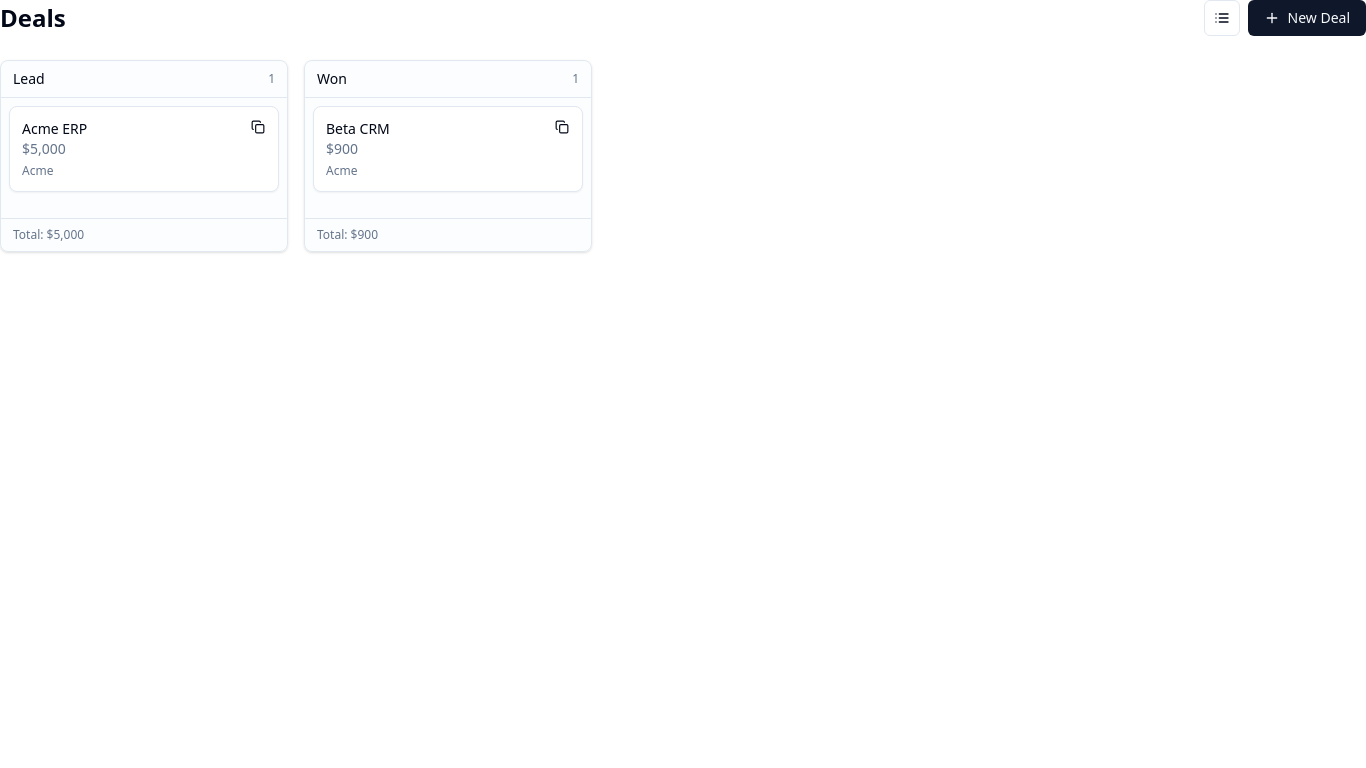
Test: Duplicating a deal from the deals page › opens the copy form for that deal without opening the deal itself
Expected: the text "Acme ERP" is shown, x1=22 y1=119 x2=87 y2=139
Click the button named "Duplicate deal: Acme ERP" at (258, 127), box x1=246 y1=115 x2=270 y2=139
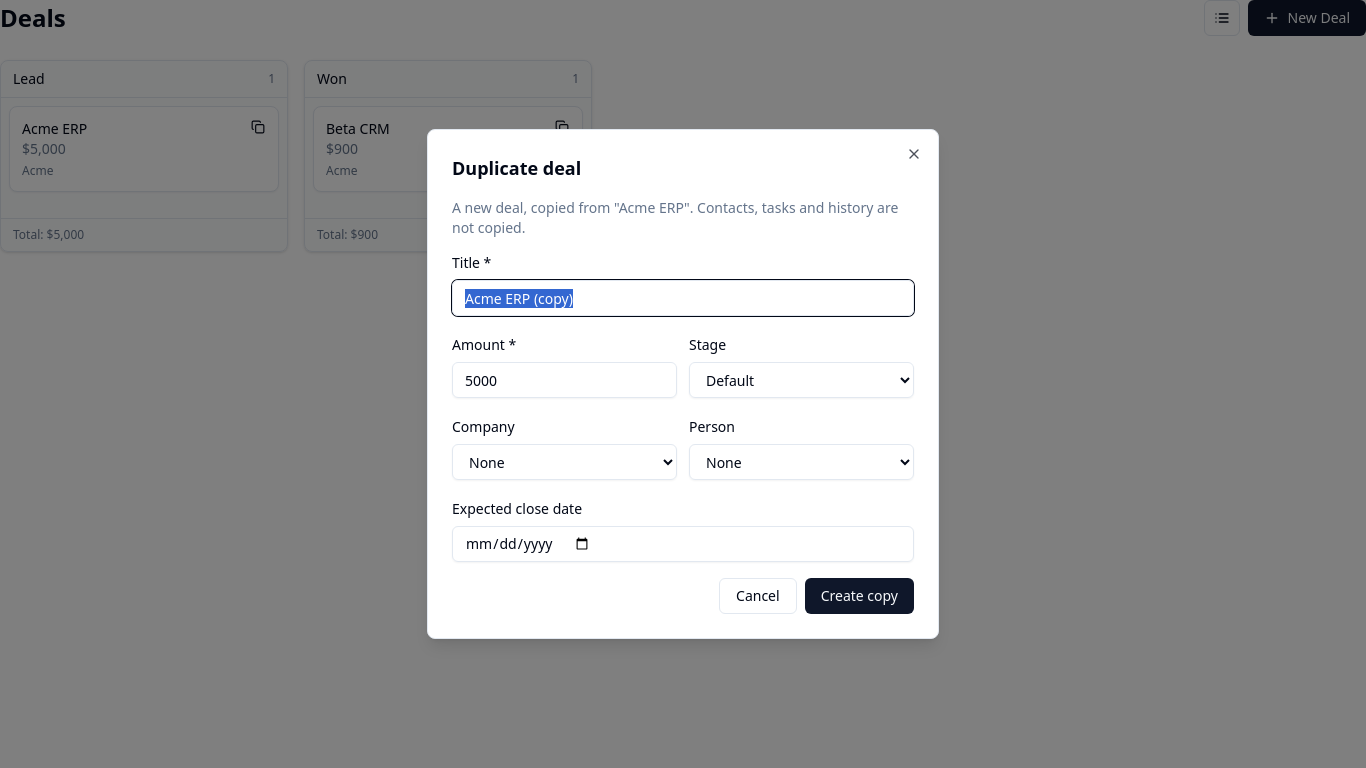
Expected: the heading "Deals" is shown, x1=0 y1=2 x2=66 y2=34
Result: the field labelled "Title *" holds "Acme ERP (copy)" at x1=452 y1=280 x2=914 y2=316
